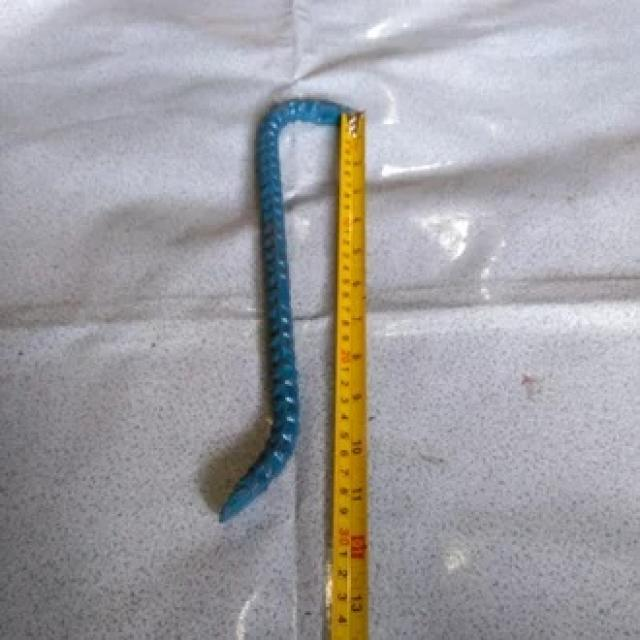Linggis: (222, 103, 355, 526)
